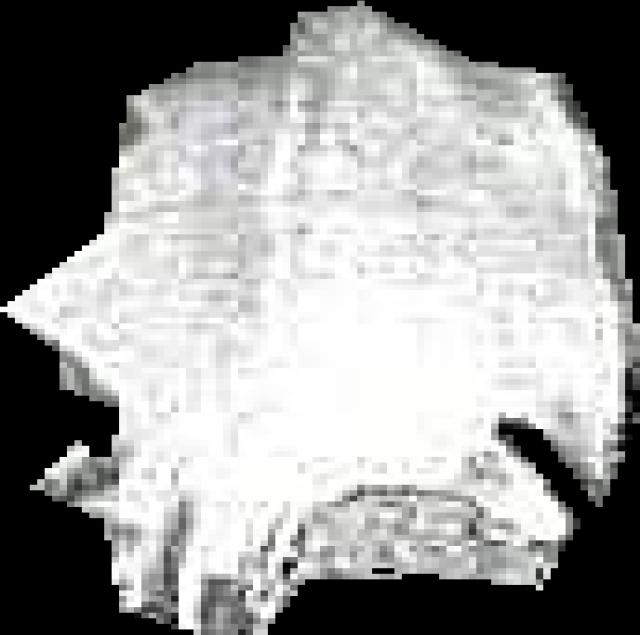tumor_less_chance: (0, 1, 640, 635)
